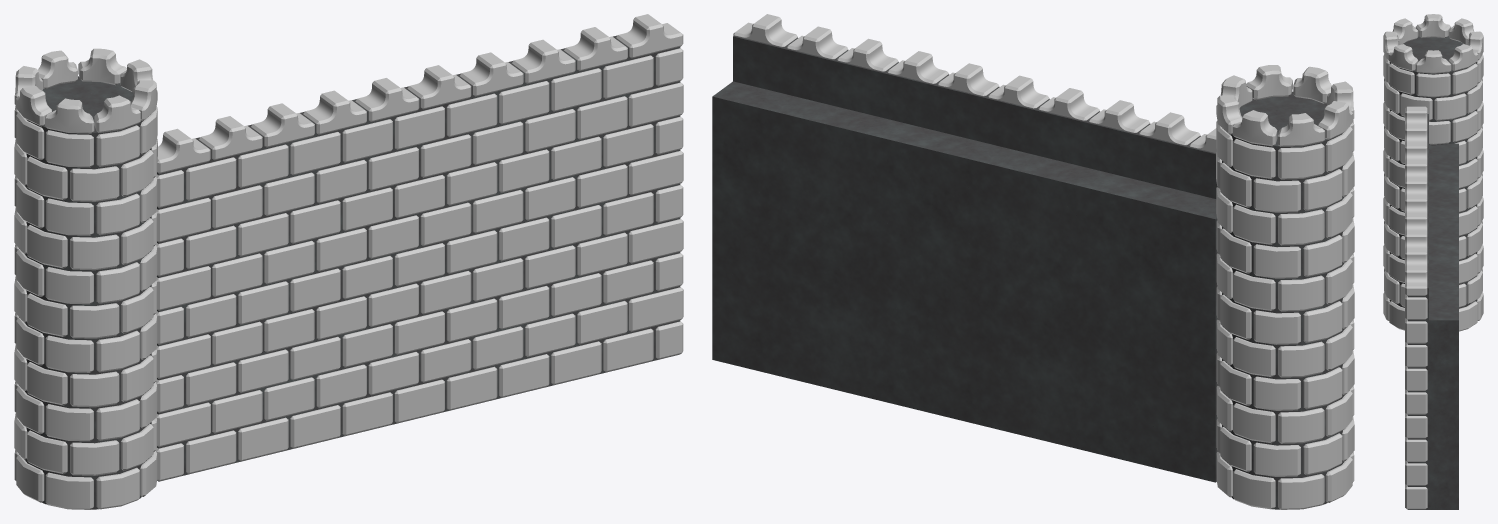
Rendered from Castle_Wall.FBX.
The picture shows the model from 3 angles, left to right: view 1: azimuth 30°, elevation 25°; view 2: azimuth 150°, elevation 25°; view 3: azimuth 270°, elevation 25°; orthographic projection. The views are drawn at different scales.
Parts seen in each view (by area): view 1: Castle_Wall; view 2: Castle_Wall; view 3: Castle_Wall.
Part boxes in pixels (x1,y1,x2,y2): Castle_Wall: (14, 14, 683, 509); Castle_Wall: (712, 14, 1354, 509); Castle_Wall: (1383, 14, 1483, 509).
Size of the model in its own units: 581 by 350 by 114.
